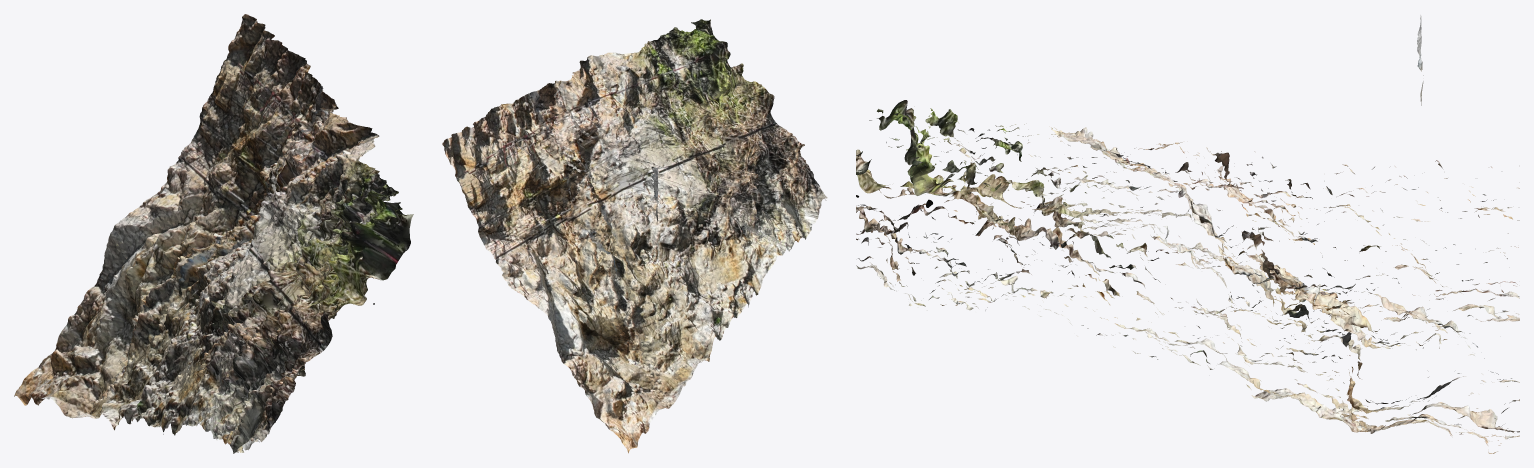
The picture shows the model from 3 angles, left to right: view 1: azimuth 30°, elevation 25°; view 2: azimuth 150°, elevation 25°; view 3: azimuth 270°, elevation 25°; orthographic projection. The views are drawn at different scales.
Bounding box in the file's own units: 4.19 × 5.57 × 7.63.
3 materials, 3 textured.
